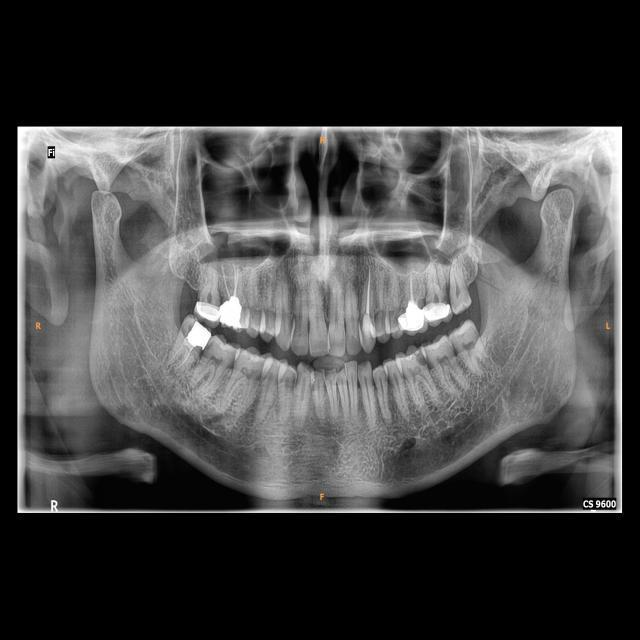dentin-curugu: (415, 349, 428, 368)
dolgu: (183, 318, 210, 348), (359, 315, 377, 350)
kanal-tedavisi: (219, 260, 241, 295), (164, 344, 193, 369), (360, 266, 374, 316), (404, 270, 416, 302)
kaplama: (218, 296, 244, 328), (422, 301, 452, 320), (402, 304, 423, 331), (195, 298, 220, 320)
